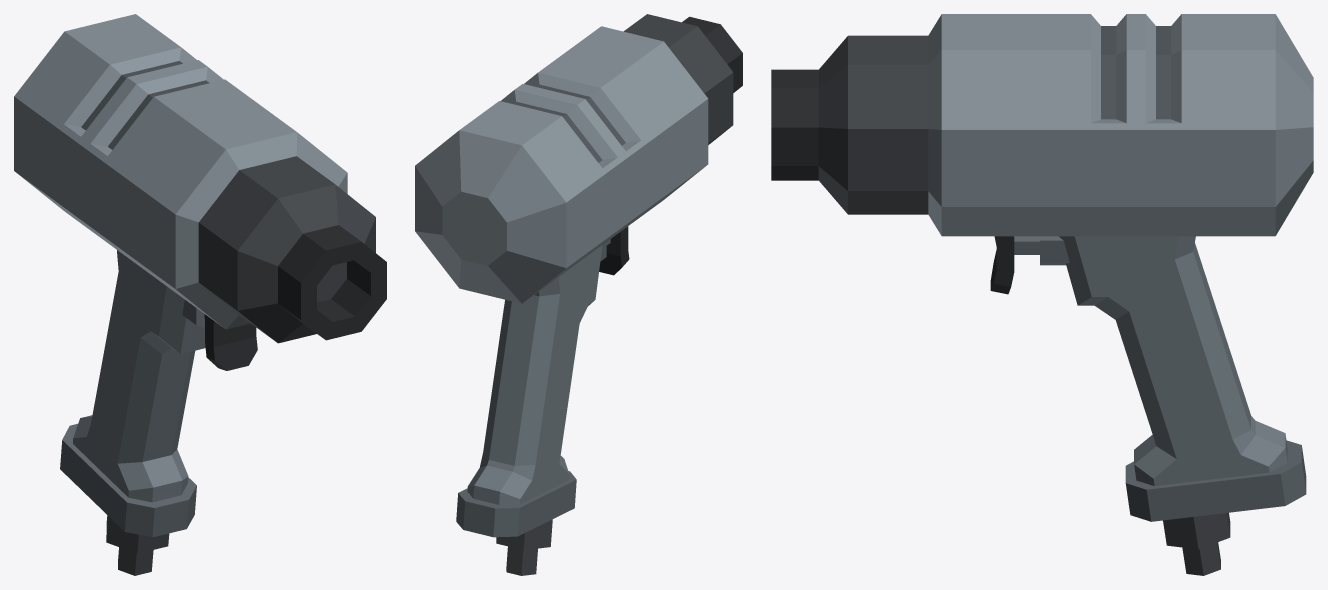
The model's file is SM_Prop_AirDrill_02_Preset.fbx.
3 views of the same model, side by side, from view 1: azimuth 30°, elevation 25°; view 2: azimuth 150°, elevation 25°; view 3: azimuth 270°, elevation 25° (orthographic). The views are drawn at different scales.
Parts seen in each view (by area): view 1: SM_Prop_AirDrill_02_Preset; view 2: SM_Prop_AirDrill_02_Preset; view 3: SM_Prop_AirDrill_02_Preset.
Boxes of the visible parts, x1,y1,x2,y2 form: SM_Prop_AirDrill_02_Preset: [14, 14, 386, 575]; SM_Prop_AirDrill_02_Preset: [415, 14, 742, 575]; SM_Prop_AirDrill_02_Preset: [771, 14, 1313, 575].
Bounding box in the file's own units: 10.65 × 30.73 × 28.09.
